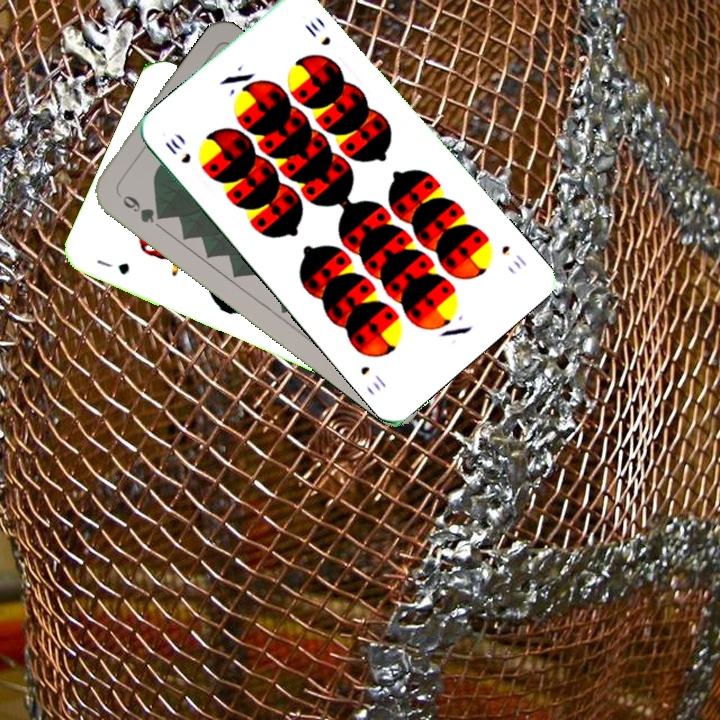G9: (113, 188, 168, 230)
GU: (92, 255, 132, 278)
S10: (160, 134, 194, 166), (497, 241, 530, 272)
